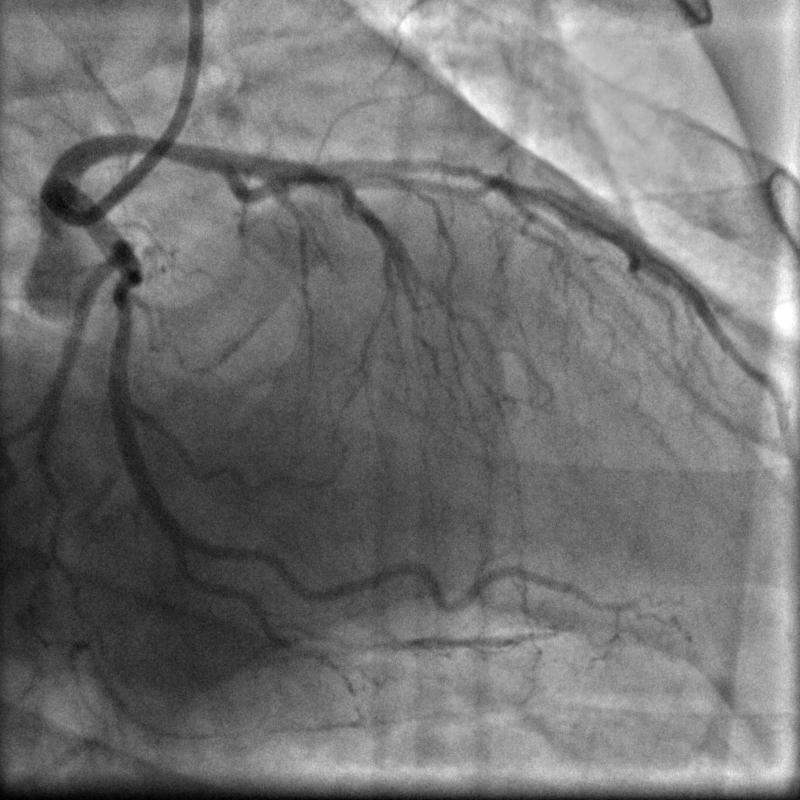Stenosis: (105, 249, 151, 323)
